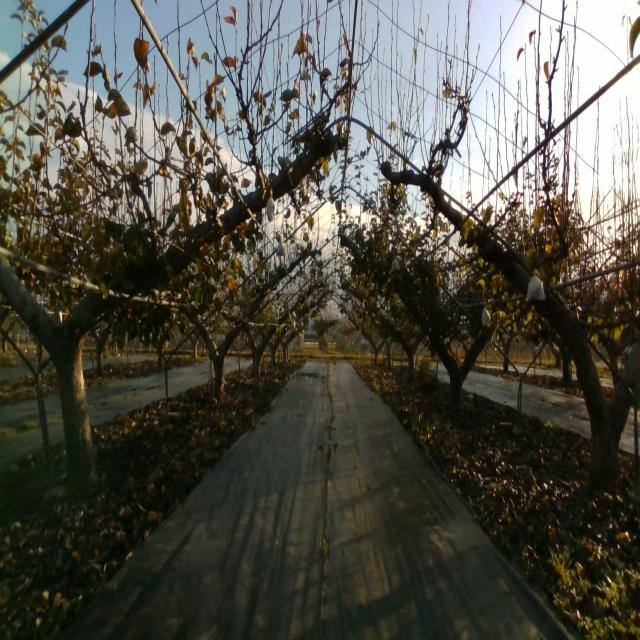pearbags: (526, 269, 546, 302), (266, 190, 277, 221), (276, 238, 286, 257)
